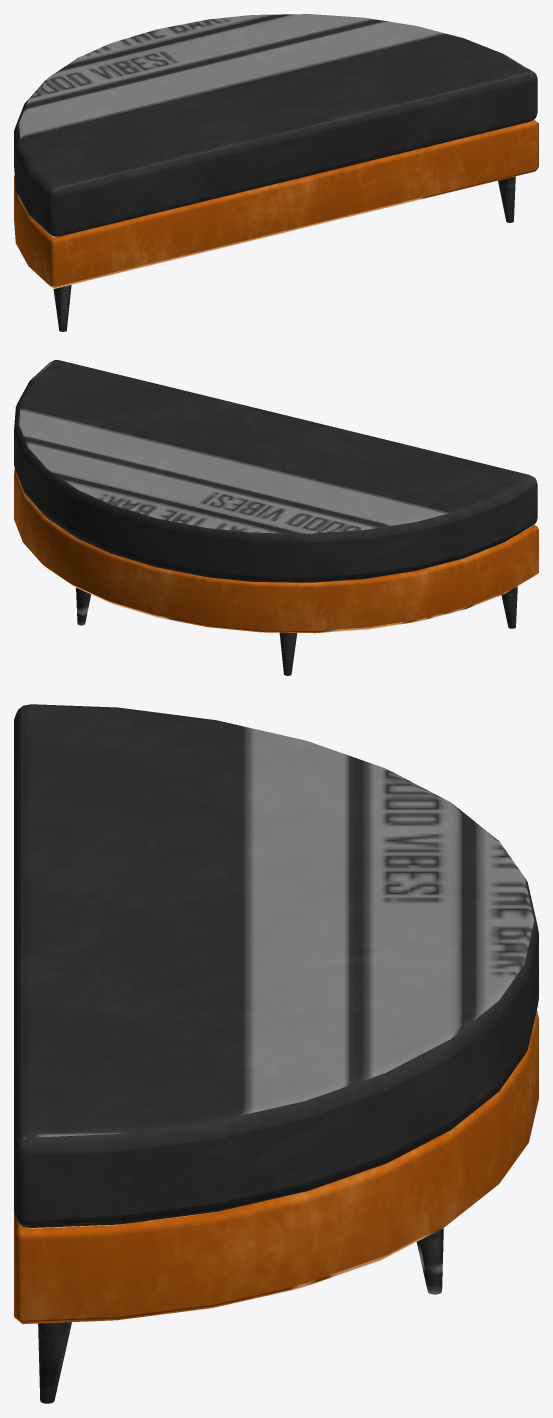
The model's file is SM_AngleElementOrange.fbx.
3 views of the same model, one above another, from view 1: azimuth 30°, elevation 25°; view 2: azimuth 150°, elevation 25°; view 3: azimuth 270°, elevation 25° (orthographic). The views are drawn at different scales.
Visible parts, largest first — view 1: SM_AngleElementOrange_LOD0; view 2: SM_AngleElementOrange_LOD0; view 3: SM_AngleElementOrange_LOD0.
Part boxes in pixels (bbox=[...]): SM_AngleElementOrange_LOD0: bbox=[14, 14, 538, 331]; SM_AngleElementOrange_LOD0: bbox=[14, 360, 538, 675]; SM_AngleElementOrange_LOD0: bbox=[14, 704, 538, 1403].
Bounding box in the file's own units: 140 × 70 × 41.28.
Materials: 1 (1 with a texture image).
